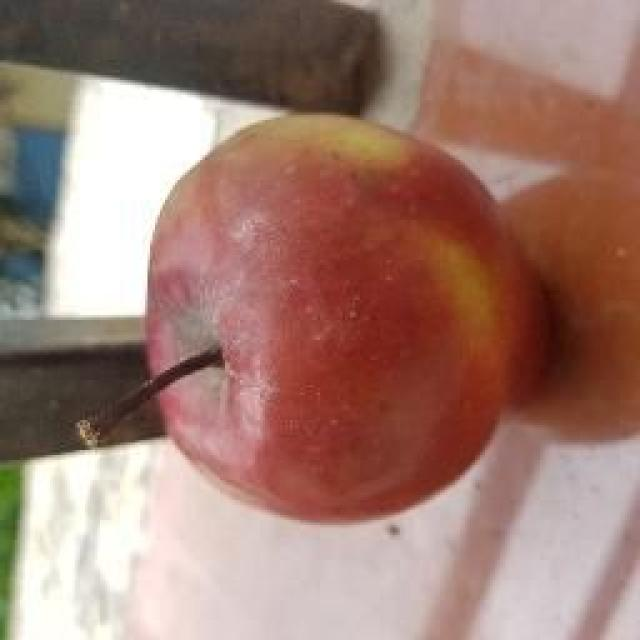Good_Apple: (150, 115, 538, 521)
